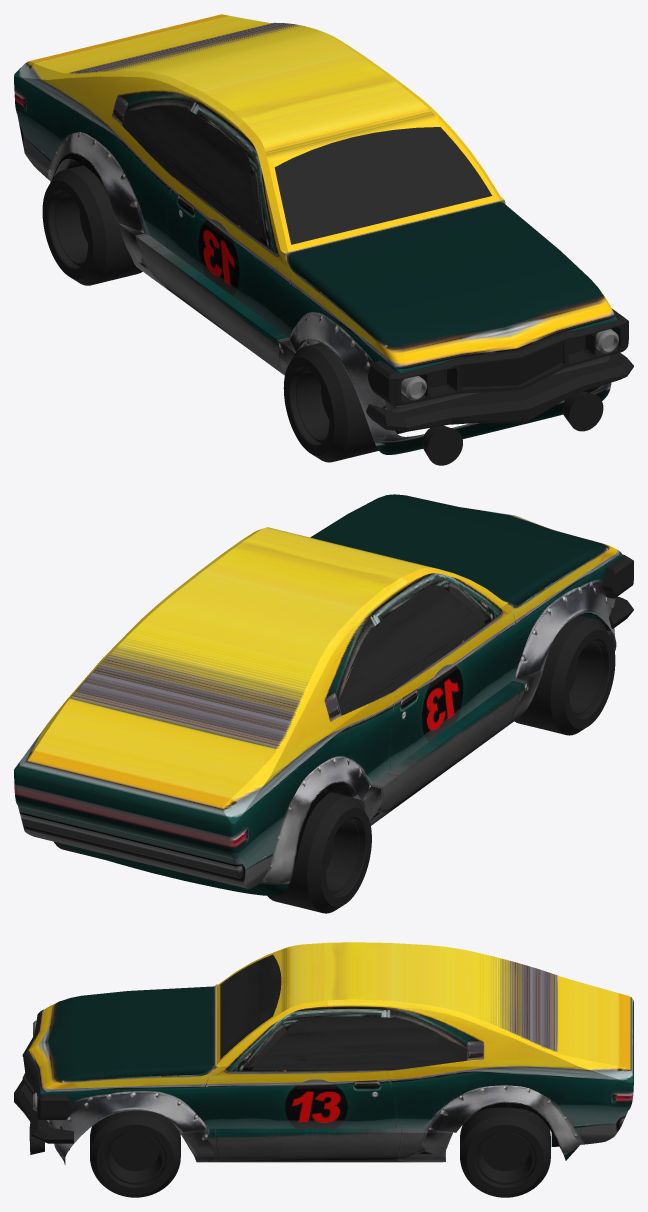
File: RX3_race.glb
3 views of the same model, one above another, from view 1: azimuth 30°, elevation 25°; view 2: azimuth 150°, elevation 25°; view 3: azimuth 270°, elevation 25° (orthographic). The views are drawn at different scales.
Visible parts, largest first — view 1: rx3_race; view 2: rx3_race; view 3: rx3_race.
Boxes of the visible parts, x1,y1,x2,y2 form: rx3_race: (14, 14, 633, 465); rx3_race: (14, 494, 633, 913); rx3_race: (14, 942, 633, 1197).
Size of the model in its own units: 26.05 by 21.01 by 66.04.
Materials: 5 (1 with a texture image).
